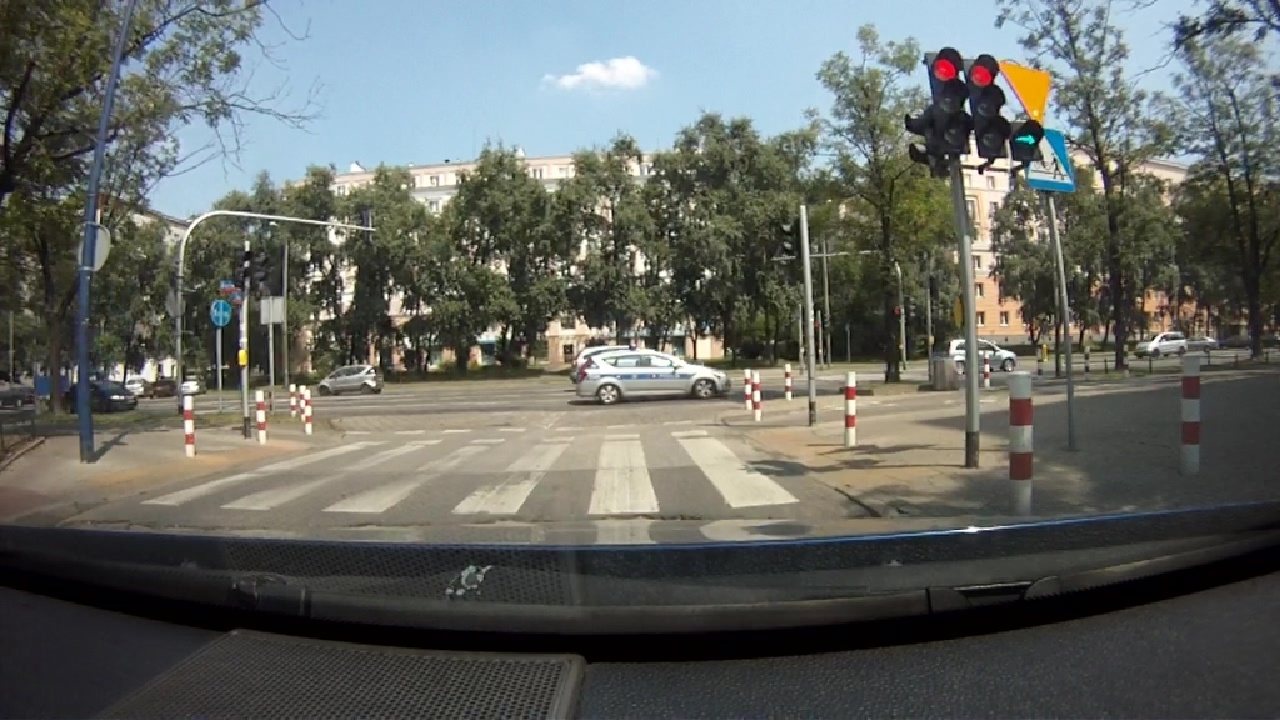Red: (964, 56, 1006, 160), (929, 51, 970, 152)
